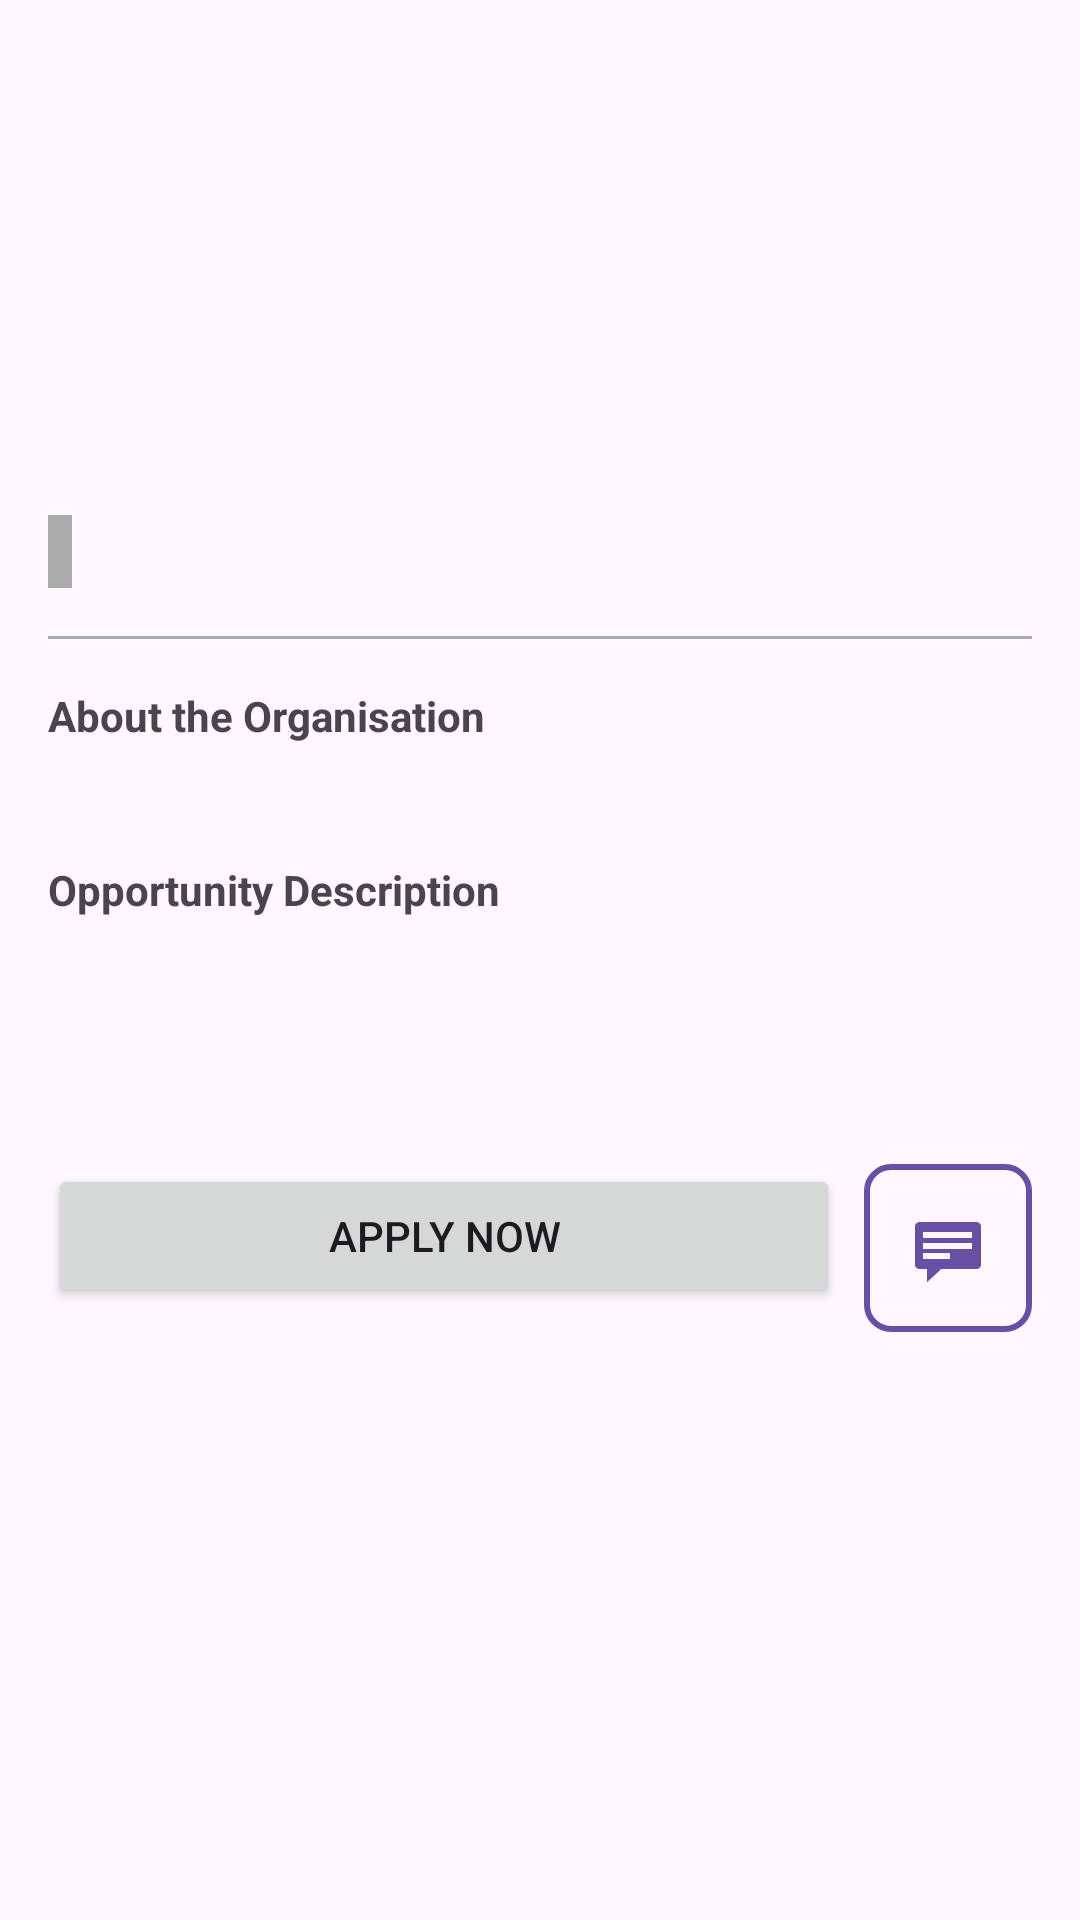

Named icons in this screenshot (1080px x 1920px) and their centers, point (x, y):
Message Organization: point (948, 1248)
